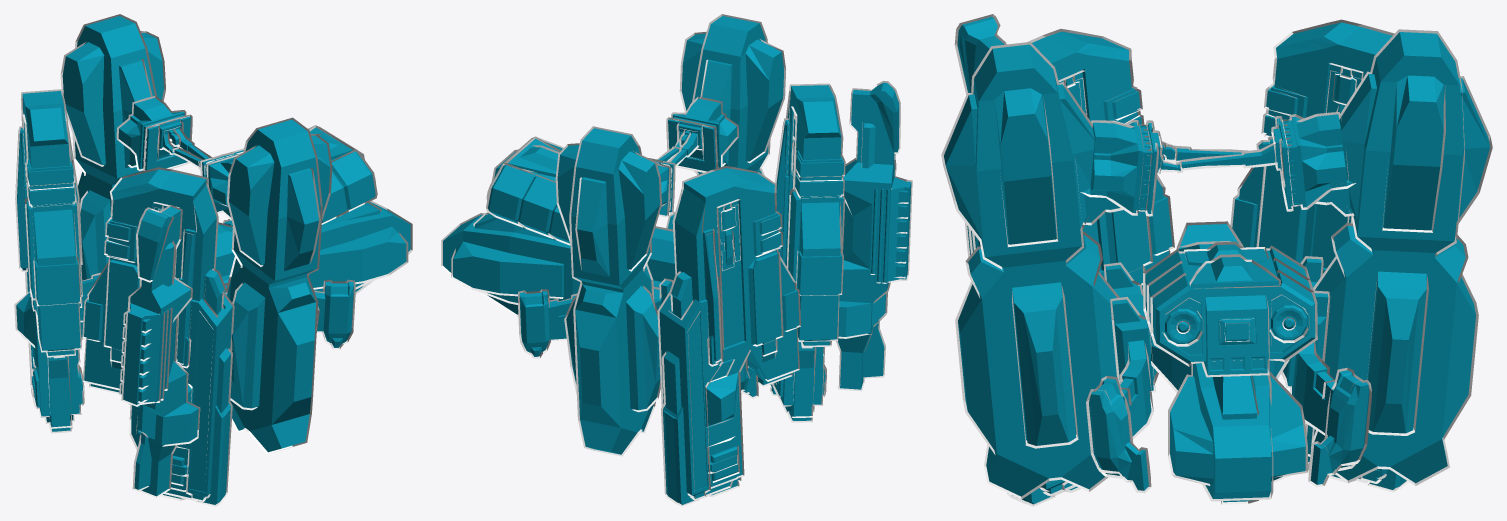
File: ship20_blue.glb
3 views of the same model, side by side, from view 1: azimuth 30°, elevation 25°; view 2: azimuth 150°, elevation 25°; view 3: azimuth 270°, elevation 25° (orthographic). The views are drawn at different scales.
Parts seen in each view (by area): view 1: ME_ship_IndexedFaceSet; view 2: ME_ship_IndexedFaceSet; view 3: ME_ship_IndexedFaceSet.
Boxes of the visible parts, box(x1,y1,x2,y2) form: ME_ship_IndexedFaceSet: box(14, 14, 412, 506); ME_ship_IndexedFaceSet: box(441, 14, 912, 506); ME_ship_IndexedFaceSet: box(941, 14, 1492, 506).
Size of the model in its own units: 400 by 372 by 382.
